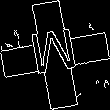M_S: (28, 26, 82, 84)
